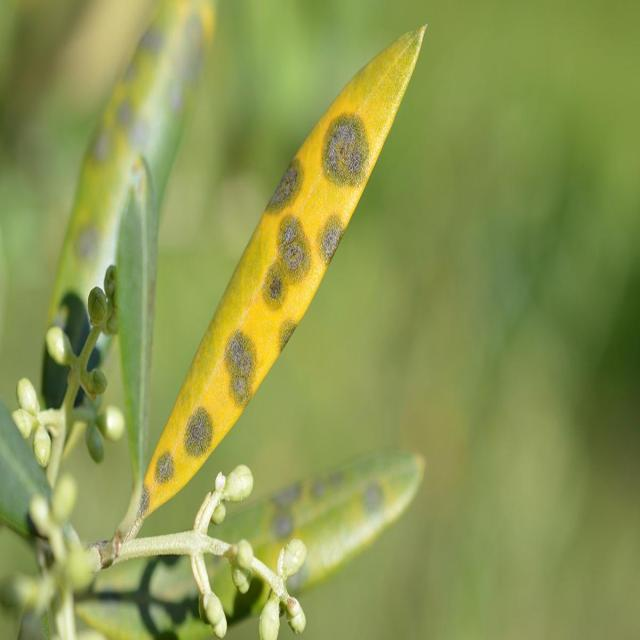Peacock Eye: (141, 26, 426, 508), (212, 451, 425, 596)
